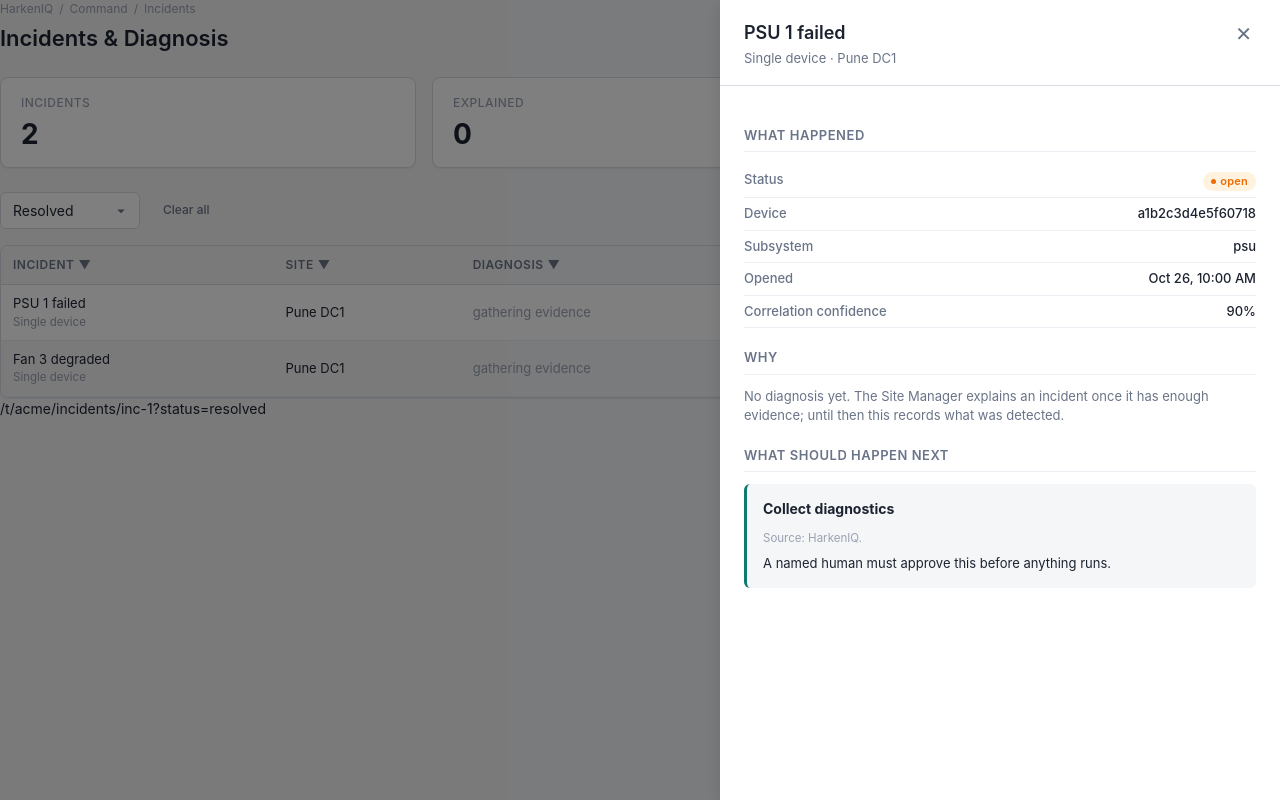
Test: an incident URL opens that incident › closing a drawer that was opened by link returns to the filtered list
This screenshot has width=1280, height=800.
Expected: the dialog "PSU 1 failed" is shown, [720,0,1279,799]
Click the button named "Close panel".
click(1244, 34)  # box [1231,20,1256,48]
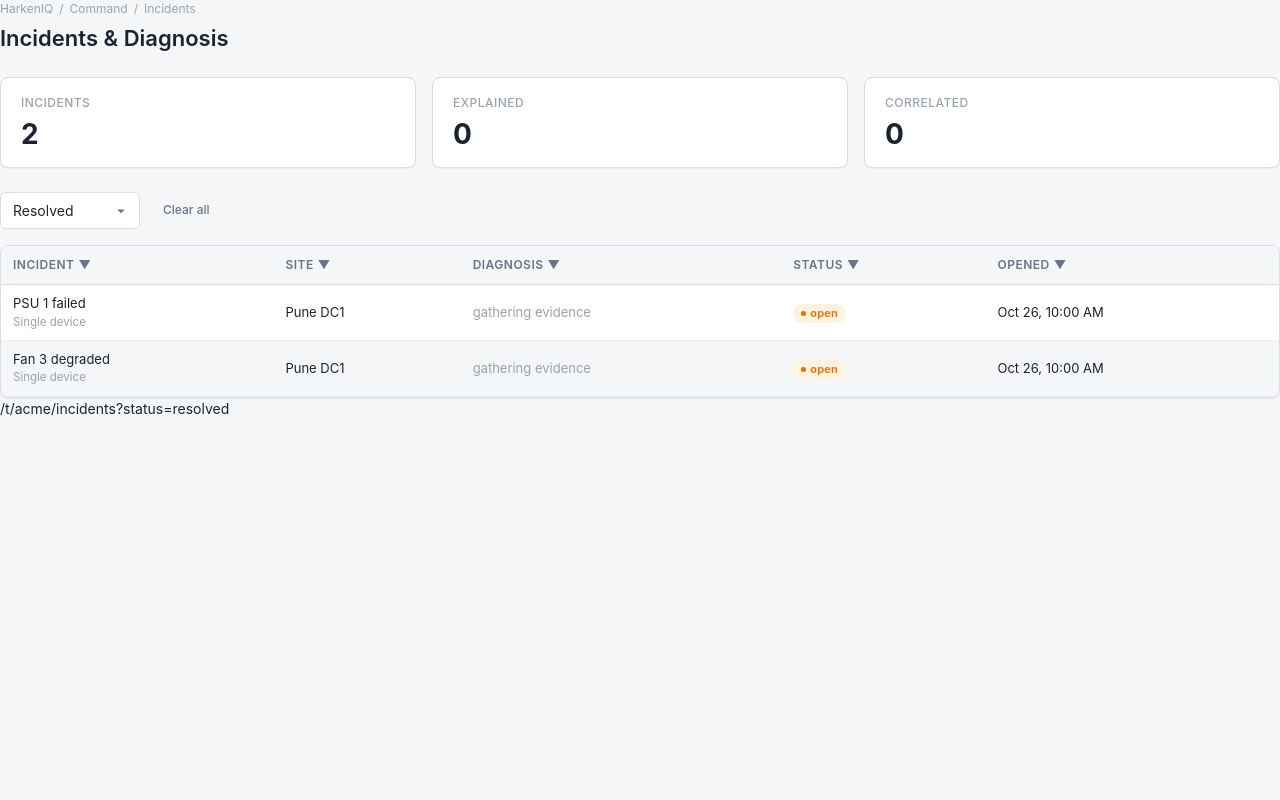
Now the text with test id "location" reads "/t/acme/incidents?status=resolved", box [0,400,229,417]
Now the dialog is gone
